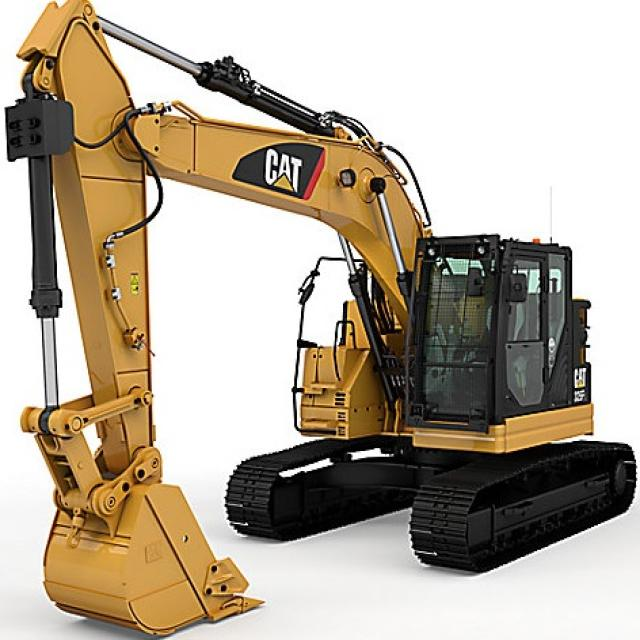excavator: (0, 0, 640, 625)
